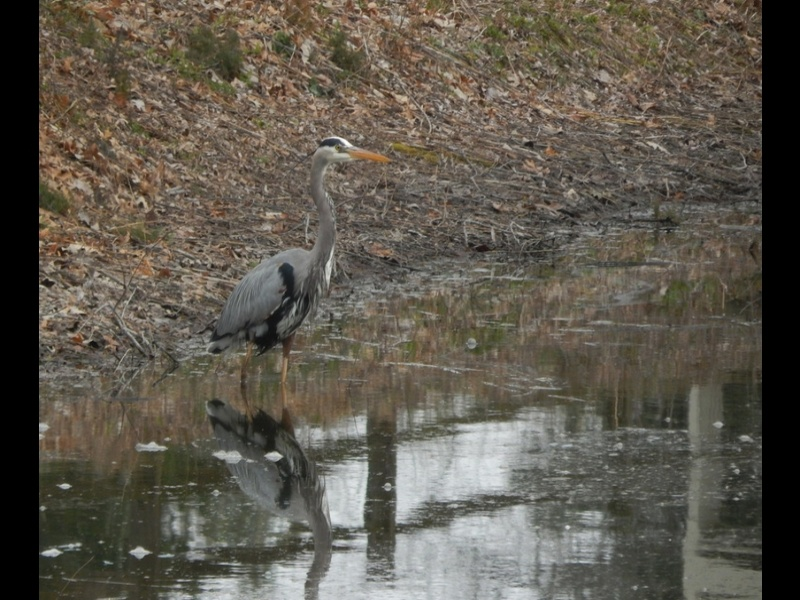heron: (208, 133, 394, 429)
